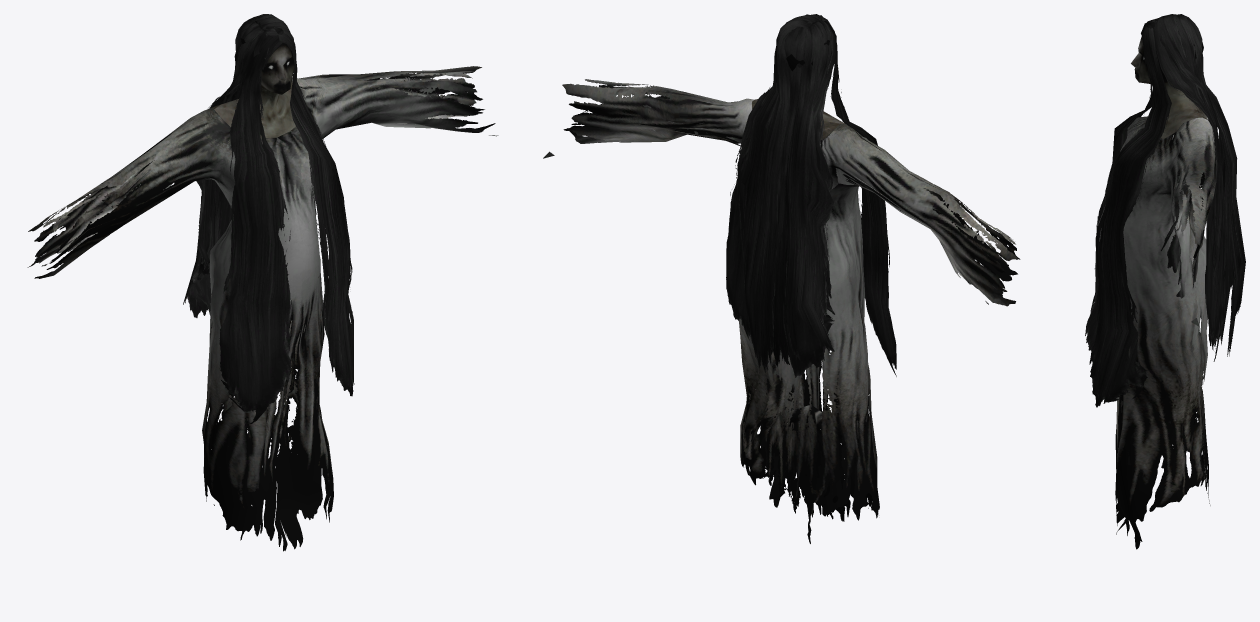
File: Kuntilanak_B_low.fbx
The picture shows the model from 3 angles, left to right: view 1: azimuth 30°, elevation 25°; view 2: azimuth 150°, elevation 25°; view 3: azimuth 270°, elevation 25°; orthographic projection. The views are drawn at different scales.
Visible parts, largest first — view 1: Kuntilanak_B_body_low, Kuntilanak_B_hair_low, Kuntilanak_B_face_low; view 2: Kuntilanak_B_body_low, Kuntilanak_B_hair_low, Kuntilanak_Under_low; view 3: Kuntilanak_B_body_low, Kuntilanak_B_hair_low, Kuntilanak_B_face_low.
Boxes of the visible parts, left/top/right/bottom form: Kuntilanak_B_body_low: left=27, top=66, right=498, bottom=551; Kuntilanak_B_hair_low: left=183, top=14, right=354, bottom=423; Kuntilanak_B_face_low: left=214, top=21, right=301, bottom=138; Kuntilanak_B_body_low: left=543, top=79, right=1020, bottom=543; Kuntilanak_B_hair_low: left=726, top=14, right=896, bottom=377; Kuntilanak_Under_low: left=742, top=405, right=879, bottom=520; Kuntilanak_B_body_low: left=1098, top=85, right=1216, bottom=549; Kuntilanak_B_hair_low: left=1085, top=14, right=1245, bottom=407; Kuntilanak_B_face_low: left=1131, top=33, right=1203, bottom=138.
Bounding box in the file's own units: 179 × 202 × 58.45.
